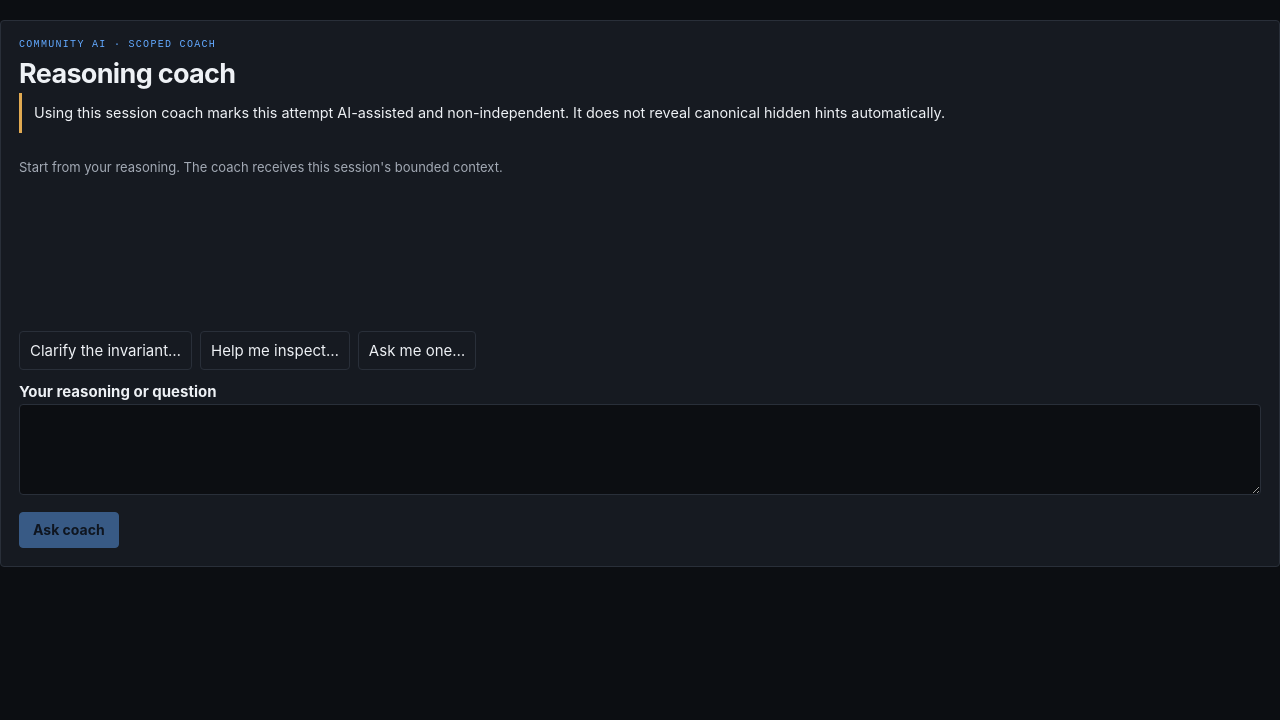
accepted coach run resumes after polling failure without a second logical message
Type "One question" into the text box labelled "Your reasoning or question" at (640,450), box [19,404,1261,496]
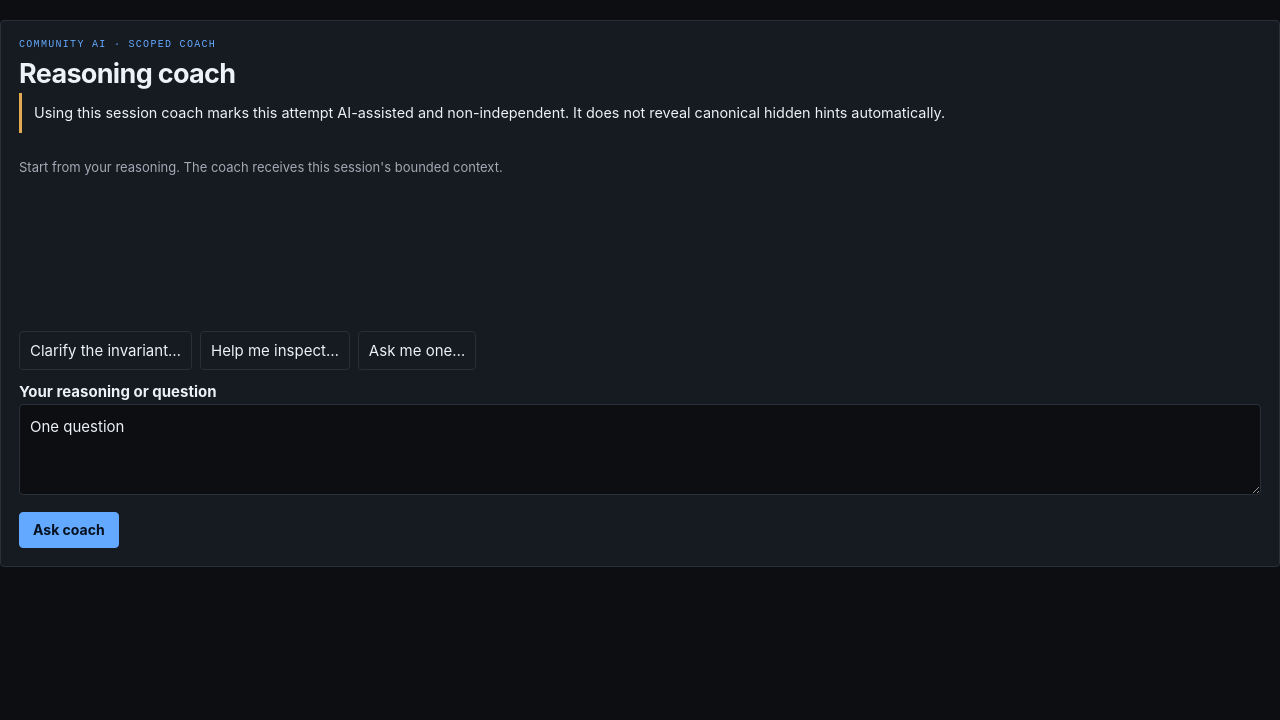
Click the button "Ask coach" at (69,530), box [19,512,119,548]
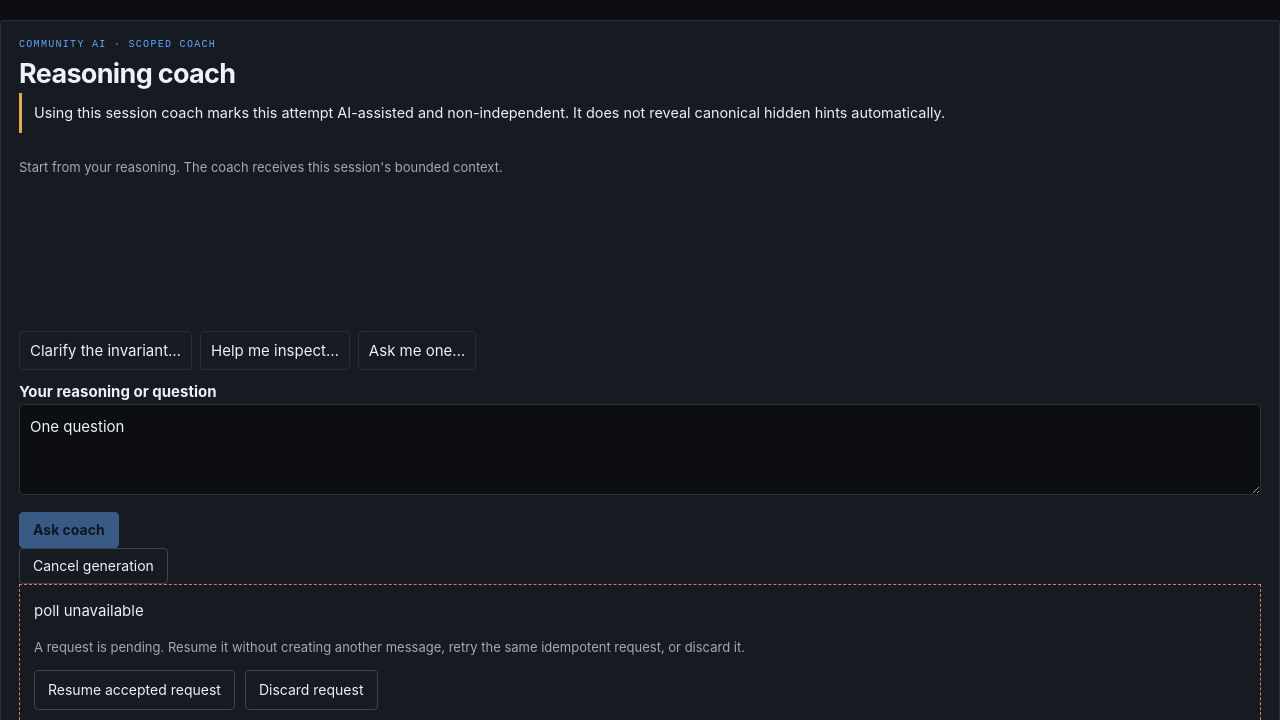
Click the button "Resume accepted request" at (134,690), box [34,670,235,710]
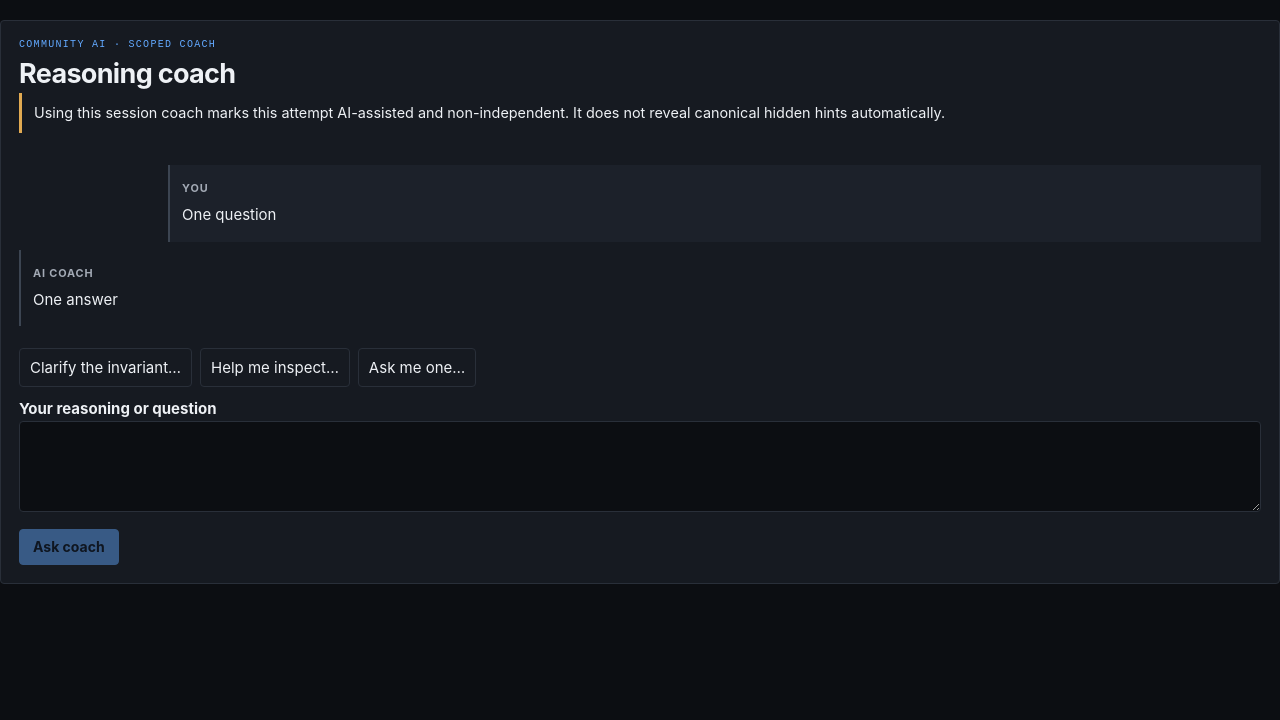
Now the text "One answer" is shown, box [33,290,118,309]
Now the text "One question" is shown once, box [182,206,276,224]
